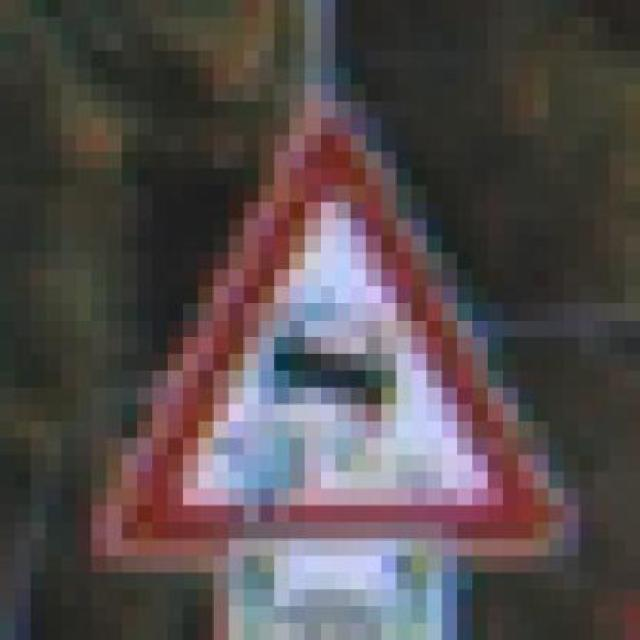Slippery Road Ahead: (61, 84, 594, 573)
